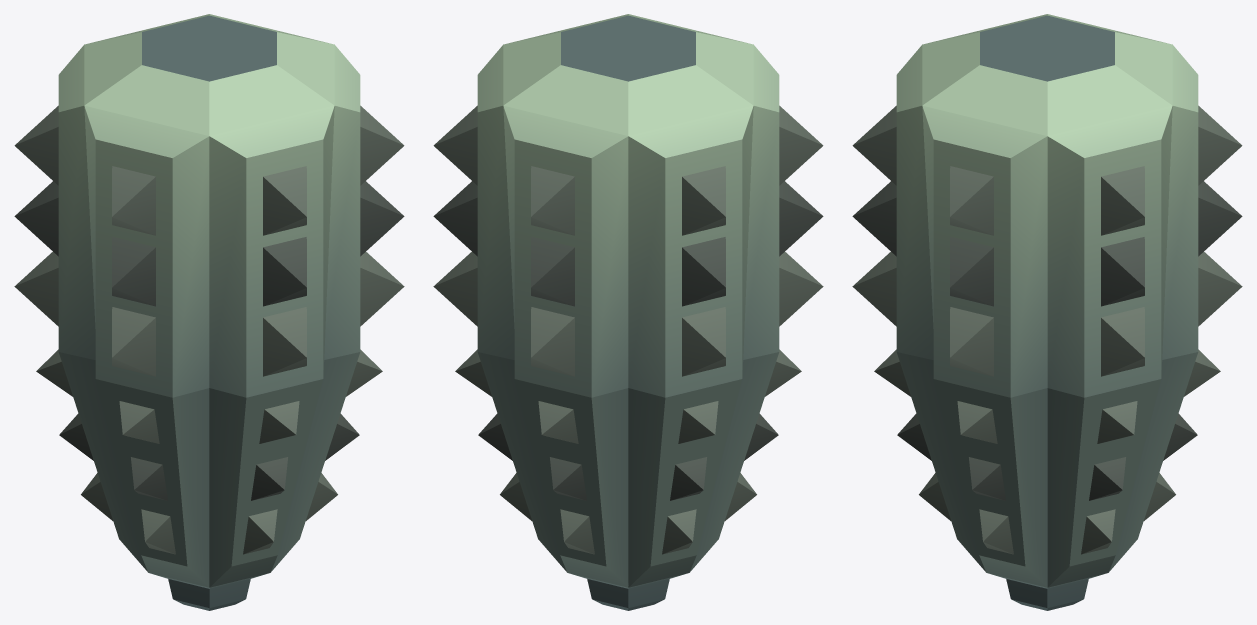
File: mace-head_002.fbx
3 renders of one model, left to right at view 1: azimuth 30°, elevation 25°; view 2: azimuth 150°, elevation 25°; view 3: azimuth 270°, elevation 25°, orthographic.
Parts seen in each view (by area): view 1: mace-head.002; view 2: mace-head.002; view 3: mace-head.002.
Part boxes in pixels (x1,y1,x2,y2): mace-head.002: (14,14,404,610); mace-head.002: (433,14,823,610); mace-head.002: (852,14,1242,610).
Size of the model in its own units: 29.25 by 52.53 by 33.78.
